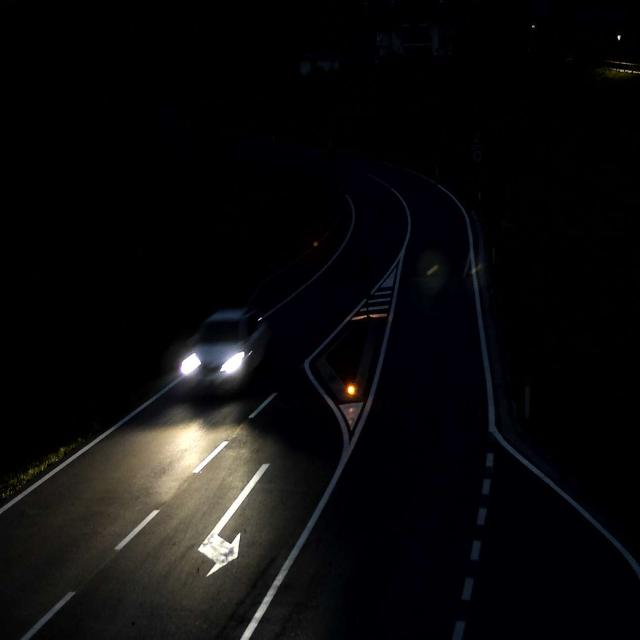car: (178, 306, 271, 398)
